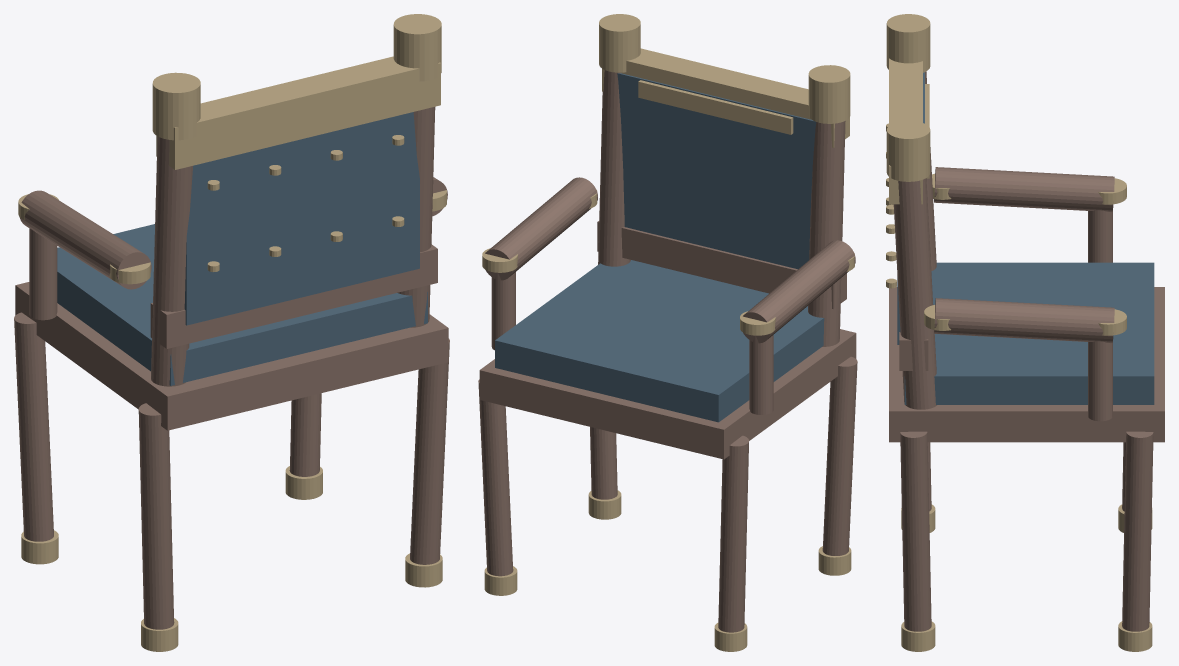
File: correspondents_chair.glb
The picture shows the model from 3 angles, left to right: view 1: azimuth 30°, elevation 25°; view 2: azimuth 150°, elevation 25°; view 3: azimuth 270°, elevation 25°; orthographic projection. The views are drawn at different scales.
Parts seen in each view (by area): view 1: upholstered_back, seat_carved_frame, seat_cushion, back_upper_rail, back_post_-0.48, tapered_leg_-0.56_-0.43, tapered_leg_-0.56_0.43, back_lower_rail, tapered_leg_0.56_0.43, arm_rail_-1, finial_-0.48, back_post_0.48 (+8 smaller); view 2: seat_cushion, upholstered_back, seat_carved_frame, back_upper_rail, back_lower_rail, back_post_-0.48, tapered_leg_-0.56_0.43, tapered_leg_-0.56_-0.43, tapered_leg_0.56_-0.43, back_post_0.48, arm_rail_-1, arm_rail_1 (+12 smaller); view 3: seat_cushion, seat_carved_frame, back_post_0.48, arm_rail_-1, arm_rail_1, tapered_leg_0.56_-0.43, tapered_leg_0.56_0.43, finial_0.48, back_upper_rail, finial_-0.48, arm_support_front_1, arm_support_front_-1 (+6 smaller).
Boxes of the visible parts, x1,y1,x2,y2 form: upholstered_back: (184,112,419,325); seat_carved_frame: (15,282,448,430); seat_cushion: (57,224,427,385); back_upper_rail: (156,56,440,169); back_post_-0.48: (151,136,192,386); tapered_leg_-0.56_-0.43: (14,312,53,541); tapered_leg_-0.56_0.43: (138,403,174,629); back_lower_rail: (150,244,437,348); tapered_leg_0.56_0.43: (410,338,449,564); arm_rail_-1: (19,190,151,289); finial_-0.48: (152,72,200,140); back_post_0.48: (397,107,435,327); seat_cushion: (495,260,824,422); upholstered_back: (617,73,816,269); seat_carved_frame: (479,329,856,459); back_upper_rail: (602,48,849,147); back_lower_rail: (597,221,846,308); back_post_-0.48: (808,121,845,346); tapered_leg_-0.56_0.43: (822,356,857,555); tapered_leg_-0.56_-0.43: (718,435,748,632); tapered_leg_0.56_-0.43: (478,379,513,576); back_post_0.48: (598,70,630,266); arm_rail_-1: (743,240,855,343); arm_rail_1: (485,177,597,280); seat_cushion: (904,262,1154,404); seat_carved_frame: (889,287,1164,442); back_post_0.48: (893,178,936,409); arm_rail_-1: (934,167,1114,212); arm_rail_1: (934,298,1114,343); tapered_leg_0.56_-0.43: (1122,431,1153,631); tapered_leg_0.56_0.43: (900,431,931,631); finial_0.48: (886,120,930,181); back_upper_rail: (889,58,922,204); finial_-0.48: (886,14,930,72); arm_support_front_1: (1088,341,1112,421); arm_support_front_-1: (1088,210,1112,262).
Size of the model in its own units: 1.32 by 2.14 by 1.06.
